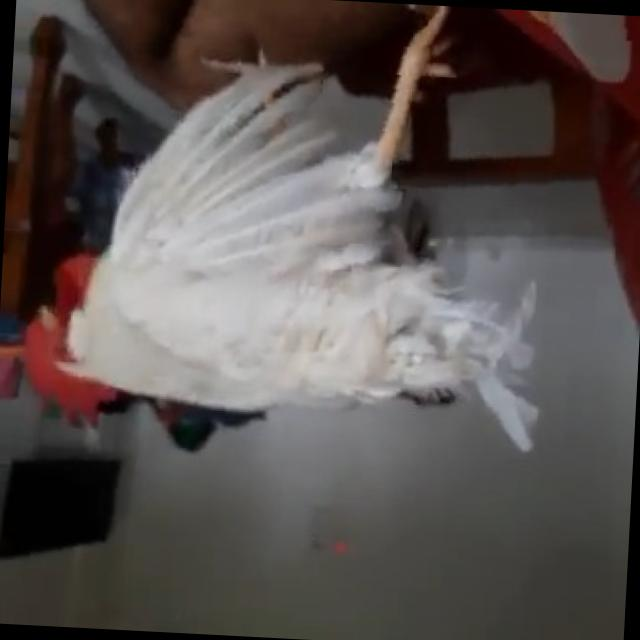wing and leg stretching: (14, 0, 573, 490)
